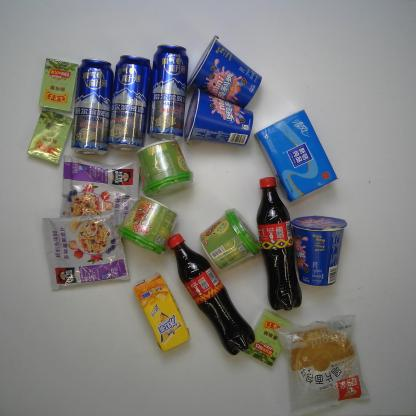Alcohol: (108, 54, 154, 152), (147, 42, 190, 143), (76, 59, 110, 157)
Candy: (242, 308, 296, 369), (28, 107, 75, 165), (38, 57, 81, 112)
Dessert: (275, 314, 373, 413), (186, 32, 265, 110), (291, 214, 350, 289), (184, 92, 254, 144)
Drink: (166, 232, 257, 356), (255, 176, 305, 312), (132, 272, 191, 352)
Instant Drink: (58, 153, 144, 241), (39, 211, 130, 289), (198, 207, 264, 273), (119, 190, 177, 258), (134, 137, 196, 197)
Tissue: (253, 108, 339, 204)
